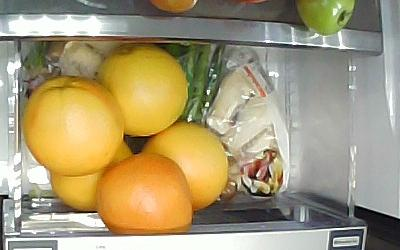grapefruit: (21, 74, 125, 176), (94, 42, 189, 136), (95, 150, 193, 235), (139, 121, 228, 210), (49, 138, 134, 211)
